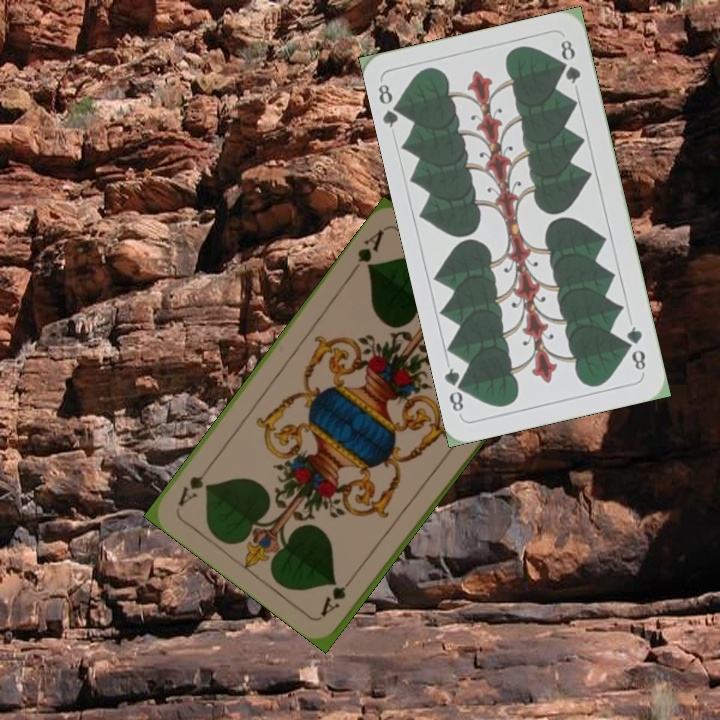G8: (374, 80, 407, 130), (622, 322, 649, 373)
GA: (316, 568, 360, 619), (346, 225, 387, 278)
